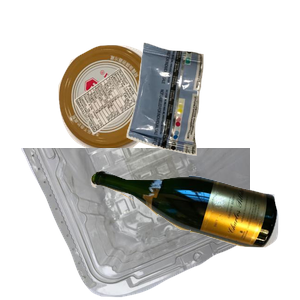glass: (88, 167, 300, 300)
metal: (56, 43, 211, 187)
plastic: (19, 148, 259, 300)
trash: (124, 40, 300, 188)
